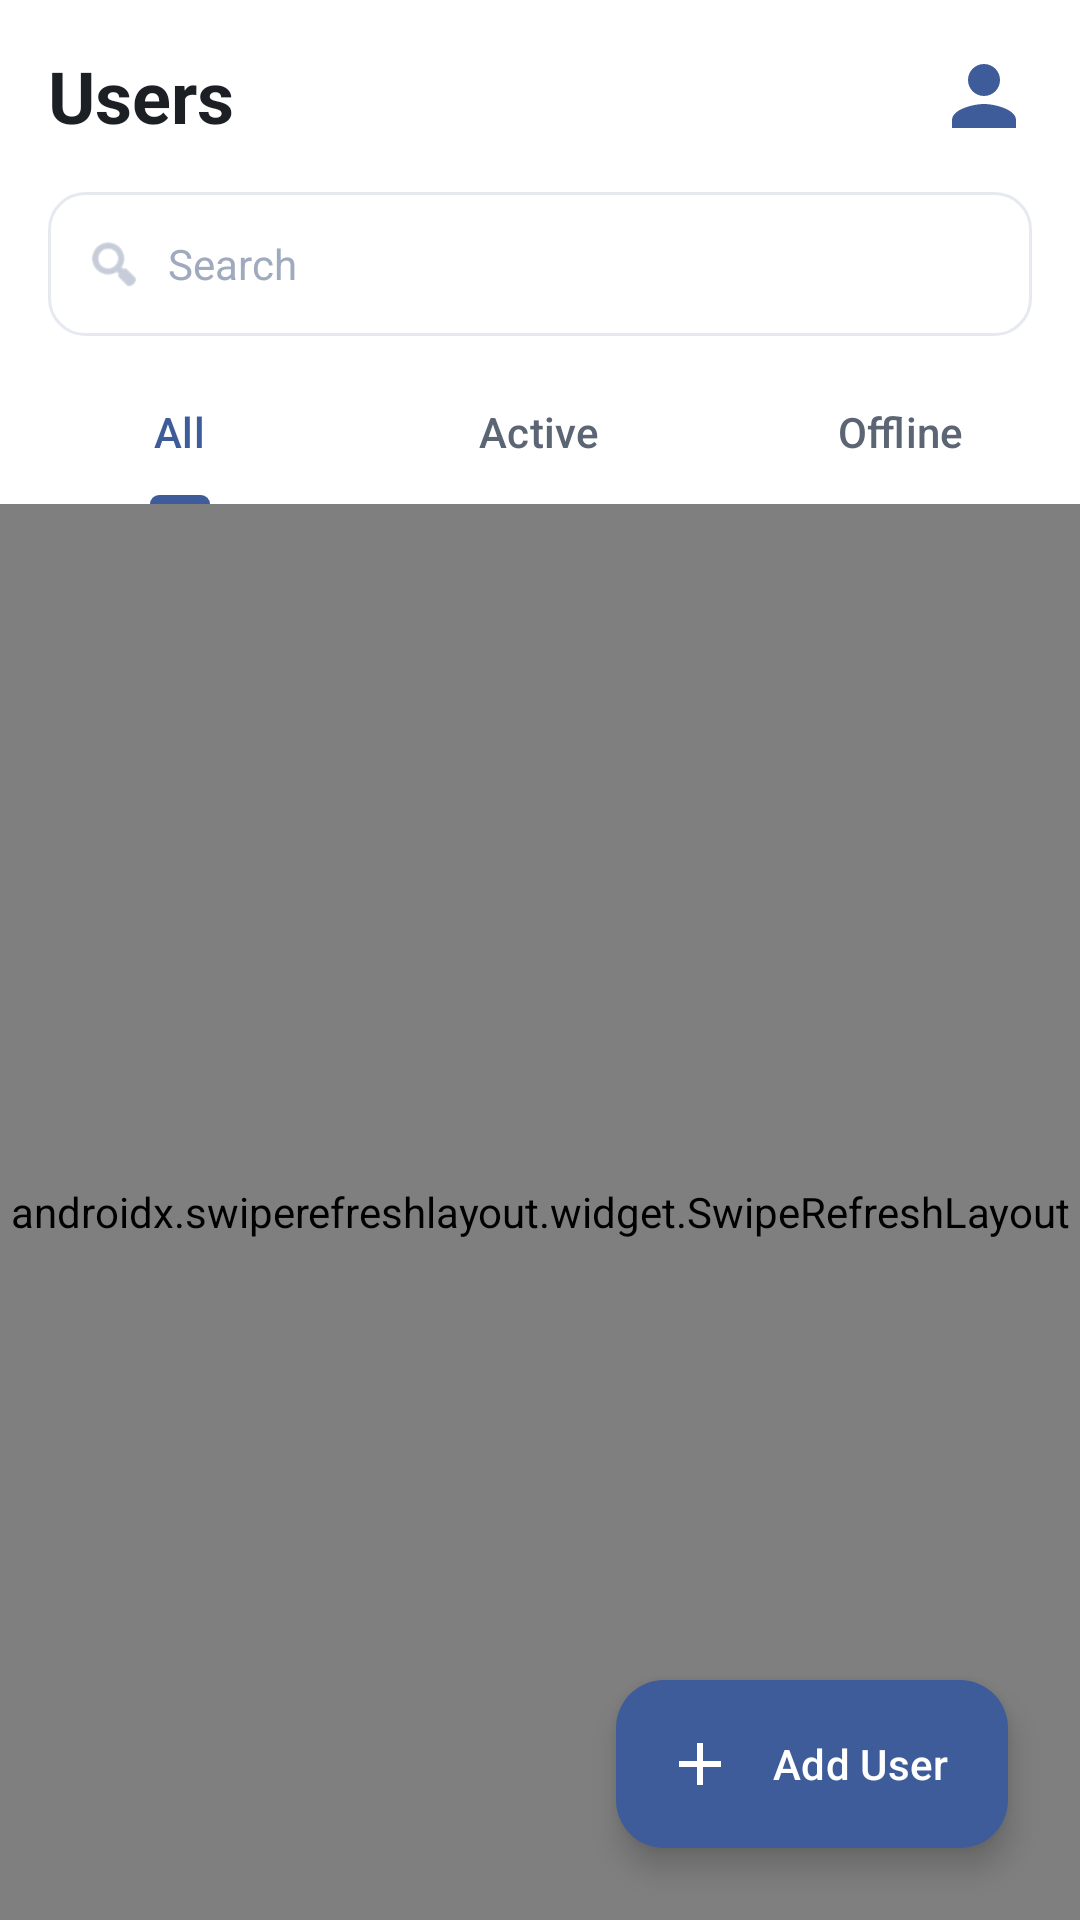

Screen size 1080*1920. Icon name, then its center in pixels as (x,y):
Profile: (984,96)
